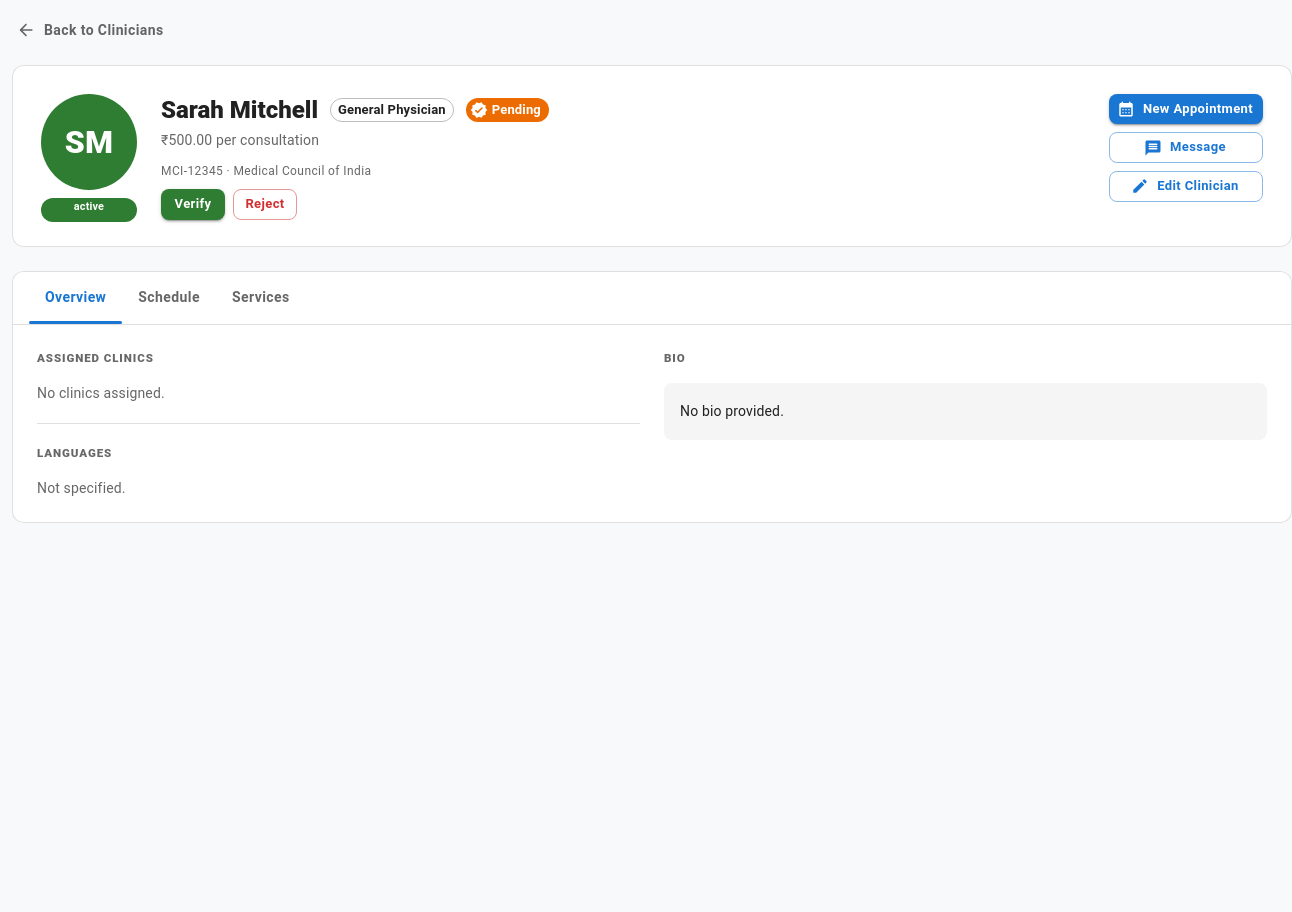
clinicians/detail.jsx — verification (A-4) › surfaces a real mutation error via a snackbar, not a silent failure
Check: the heading "Sarah Mitchell" is shown, box x1=161 y1=94 x2=318 y2=126
Click the button "Verify" at point(193, 205), box x1=161 y1=189 x2=225 y2=220
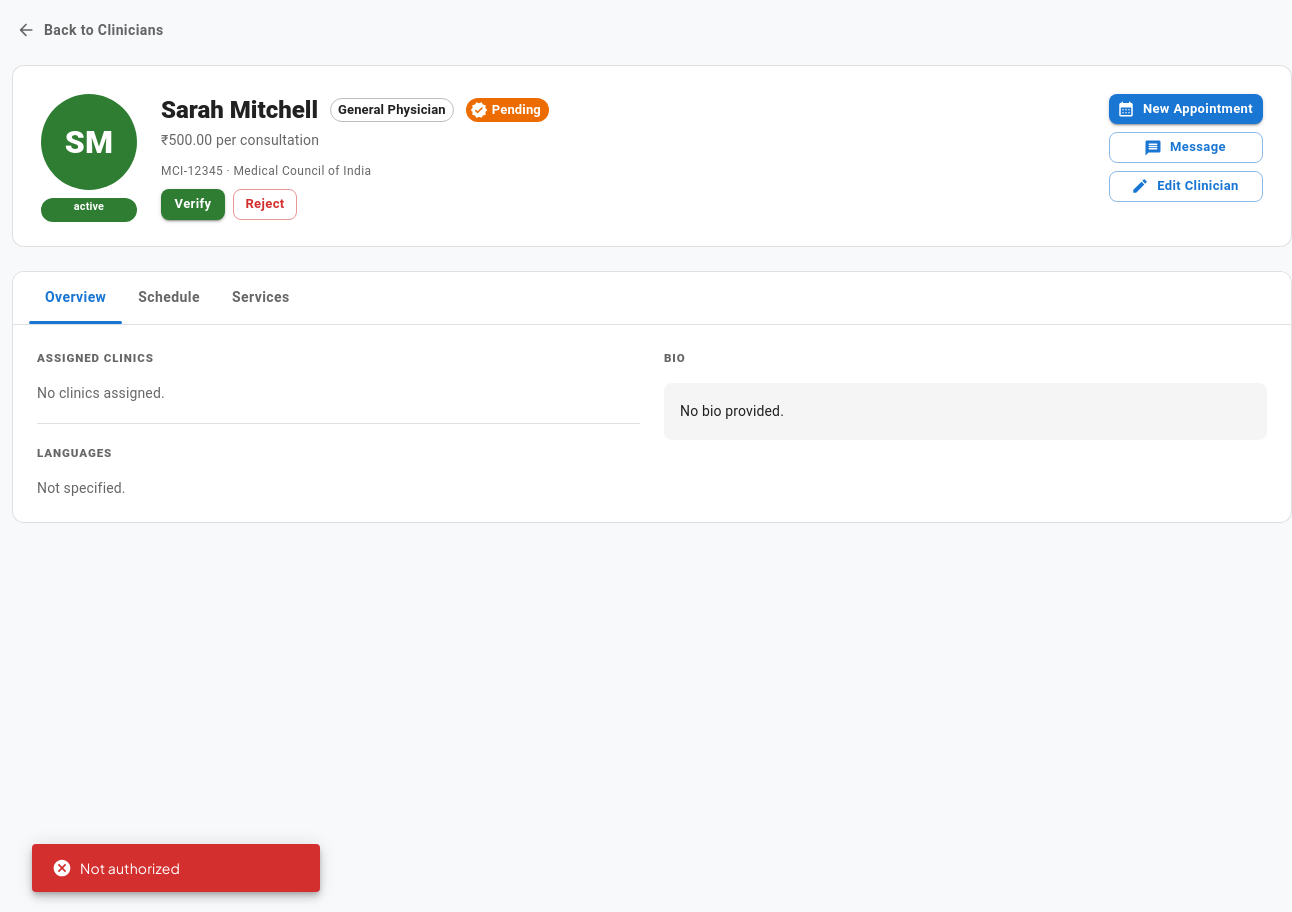
Check: the text "Not authorized" is shown, box x1=52 y1=858 x2=180 y2=878
